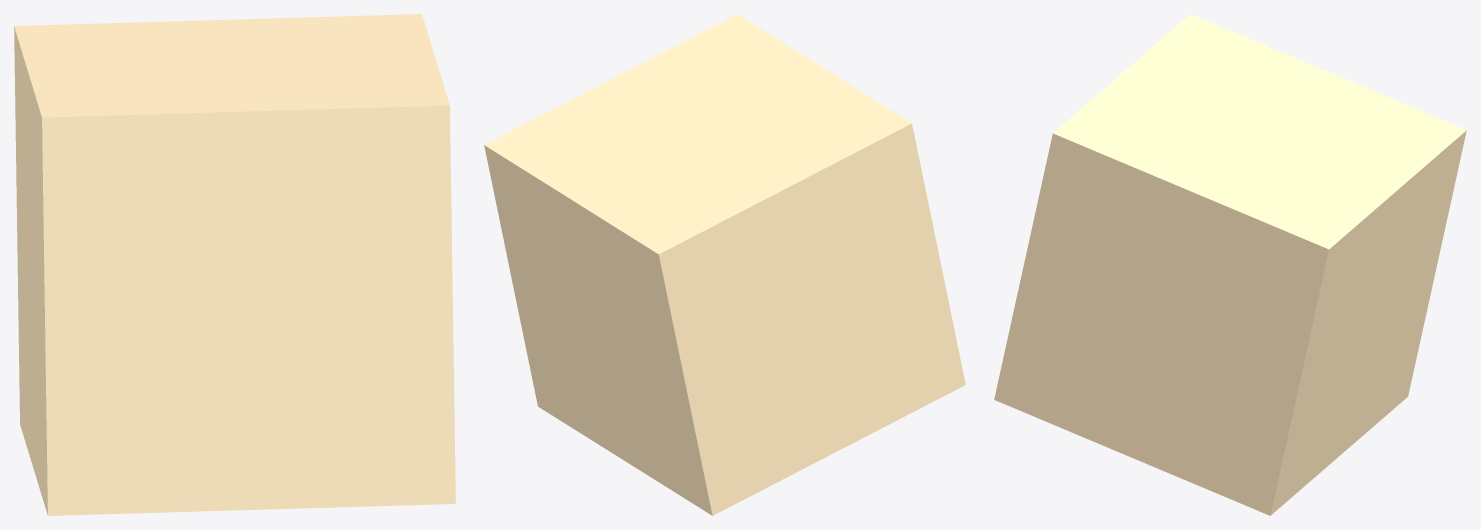
Rendered from fox-base-v9-cream-toy.glb.
3 views of the same model, side by side, from view 1: azimuth 30°, elevation 25°; view 2: azimuth 150°, elevation 25°; view 3: azimuth 270°, elevation 25° (orthographic). The views are drawn at different scales.
Visible parts, largest first — view 1: FoxBase_AccTag; view 2: FoxBase_AccTag; view 3: FoxBase_AccTag.
Part boxes in pixels (x1,y1,x2,y2): FoxBase_AccTag: (14, 14, 455, 515); FoxBase_AccTag: (484, 14, 965, 515); FoxBase_AccTag: (994, 14, 1466, 515).
Size of the model in its own units: 0.9647 by 0.8065 by 1.02.
